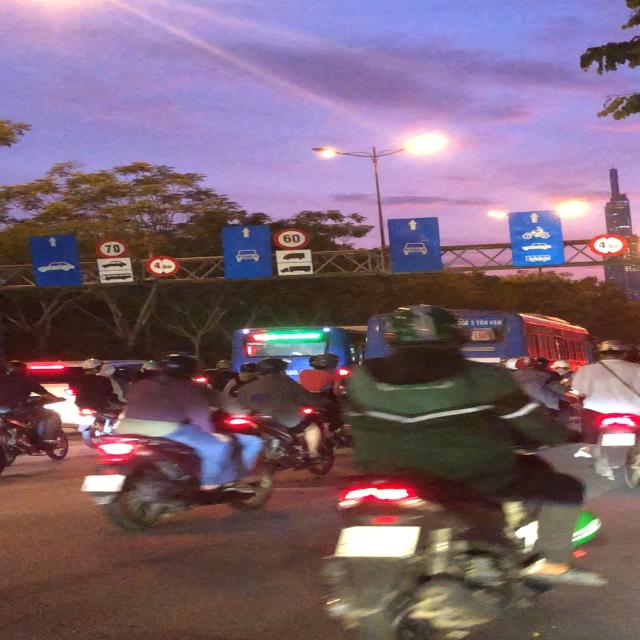Bien bao han che chieu cao: (585, 231, 633, 259), (141, 253, 183, 280)
Bien bao toc do toi da cho phep: (268, 226, 317, 248), (90, 239, 135, 258)
